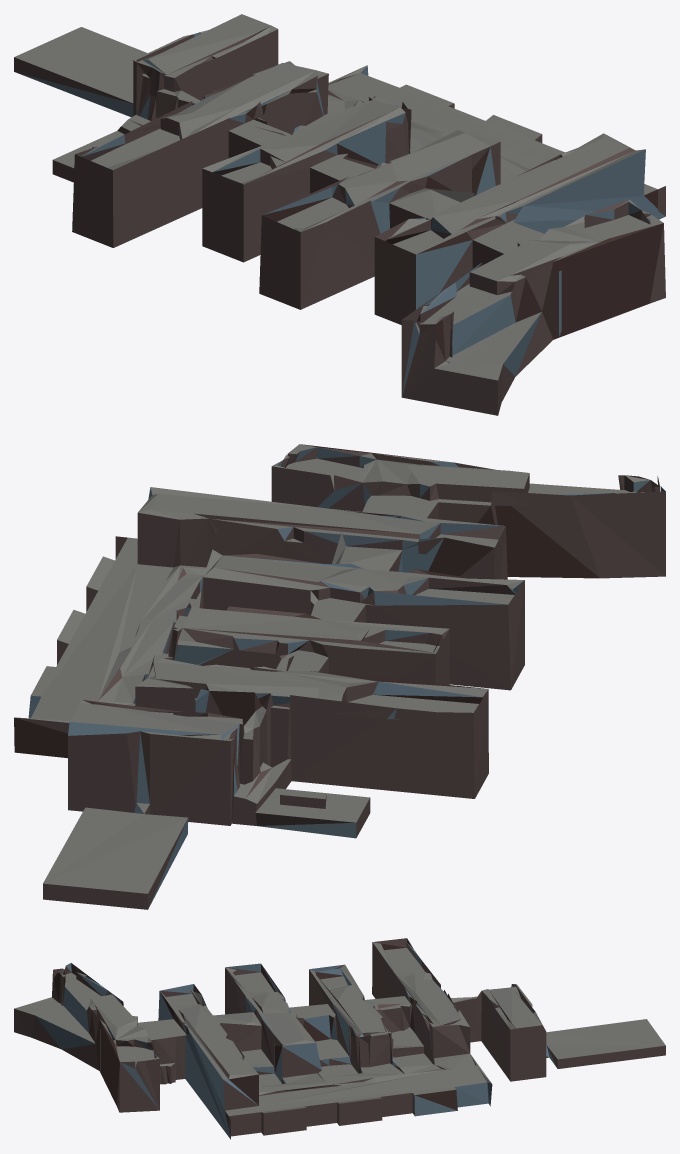
Rendered from shell-technology-centre.lod2.glb.
The picture shows the model from 3 angles, top to bottom: view 1: azimuth 30°, elevation 25°; view 2: azimuth 150°, elevation 25°; view 3: azimuth 270°, elevation 25°; orthographic projection. The views are drawn at different scales.
Parts seen in each view (by area): view 1: lod2; view 2: lod2; view 3: lod2.
Part boxes in pixels (<box>): lod2: <box>14,14,665,415</box>; lod2: <box>14,444,665,909</box>; lod2: <box>14,938,665,1139</box>.
Size of the model in its own units: 178 by 30.14 by 327.
